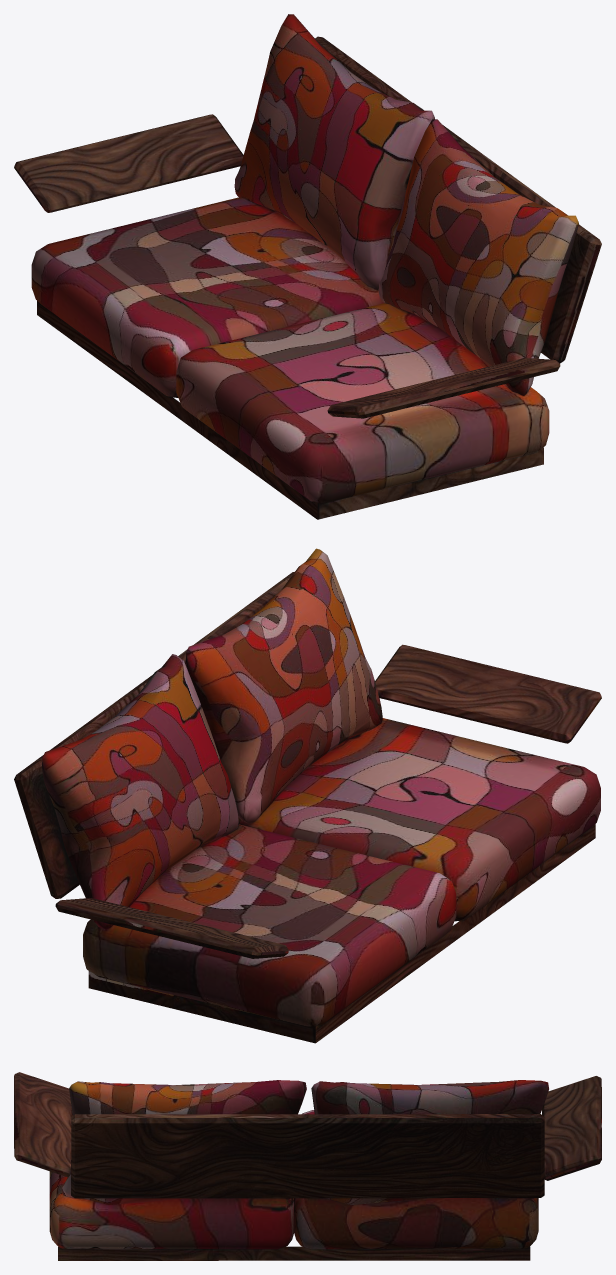
The model's file is couch_right.glb.
The picture shows the model from 3 angles, top to bottom: view 1: azimuth 30°, elevation 25°; view 2: azimuth 150°, elevation 25°; view 3: azimuth 270°, elevation 25°; orthographic projection. The views are drawn at different scales.
Parts seen in each view (by area): view 1: Sofa.Right.001; view 2: Sofa.Right.001; view 3: Sofa.Right.001.
Part boxes in pixels (<box>): Sofa.Right.001: <box>14,14,601,519</box>; Sofa.Right.001: <box>14,548,601,1043</box>; Sofa.Right.001: <box>14,1072,601,1260</box>.
Size of the model in its own units: 1.58 by 1.15 by 3.15.
Materials: 1 (1 with a texture image).
